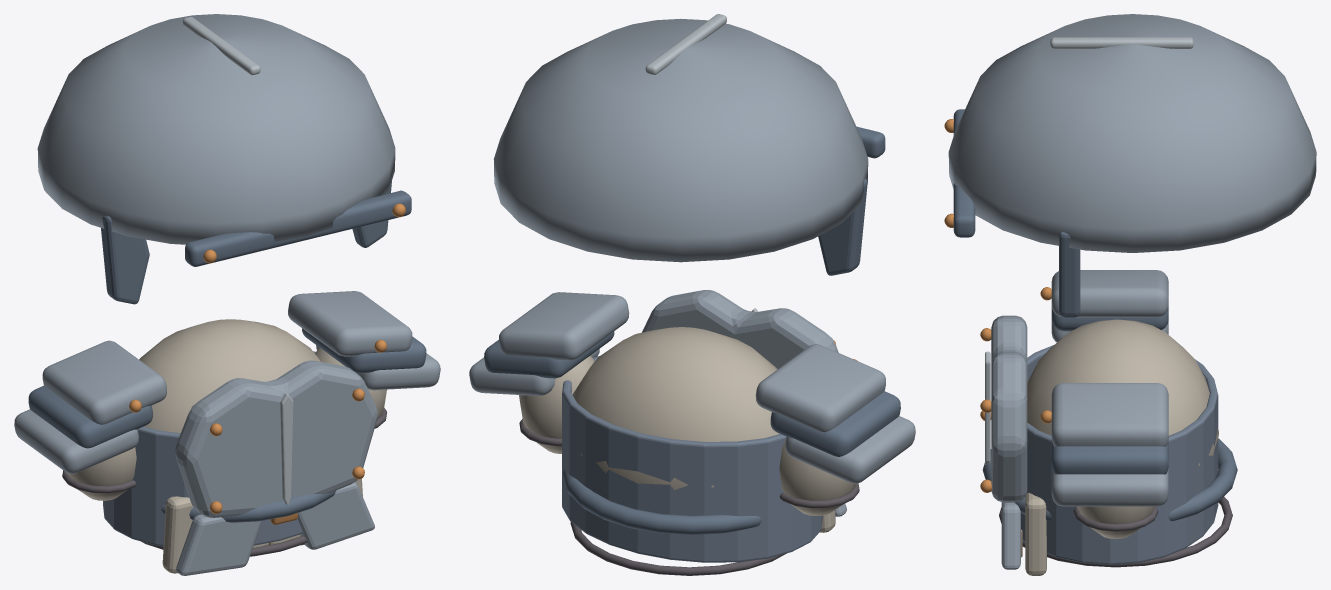
File: armor_ironplate.glb
3 renders of one model, left to right at view 1: azimuth 30°, elevation 25°; view 2: azimuth 150°, elevation 25°; view 3: azimuth 270°, elevation 25°, orthographic. The views are drawn at different scales.
Parts seen in each view (by area): view 1: helm_rivet, belt_buckle, bound_cuff, bound_cuff.001; view 2: helm_rivet, belt_buckle, bound_cuff, bound_cuff.001; view 3: helm_rivet, belt_buckle, bound_cuff.001, bound_cuff.
Boxes of the visible parts, x1=… form: helm_rivet: x1=37, y1=14, x2=411, y2=304; belt_buckle: x1=103, y1=319, x2=377, y2=575; bound_cuff: x1=14, y1=340, x2=166, y2=500; bound_cuff.001: x1=288, y1=291, x2=440, y2=428; helm_rivet: x1=493, y1=14, x2=885, y2=275; belt_buckle: x1=562, y1=290, x2=846, y2=575; bound_cuff: x1=755, y1=344, x2=915, y2=515; bound_cuff.001: x1=469, y1=292, x2=629, y2=453; helm_rivet: x1=944, y1=14, x2=1316, y2=317; belt_buckle: x1=980, y1=315, x2=1237, y2=575; bound_cuff.001: x1=1040, y1=383, x2=1168, y2=539; bound_cuff: x1=1040, y1=270, x2=1168, y2=342.
Size of the model in its own units: 0.9396 by 1.15 by 0.779.
